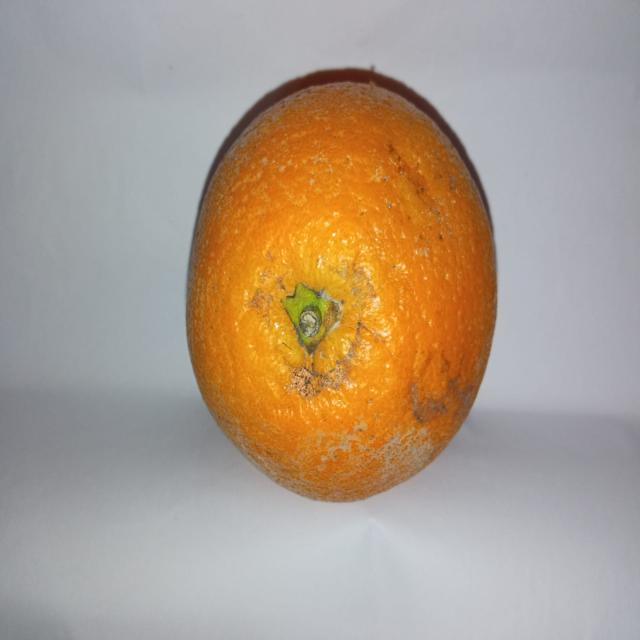rotten_orange: (184, 78, 499, 501)
